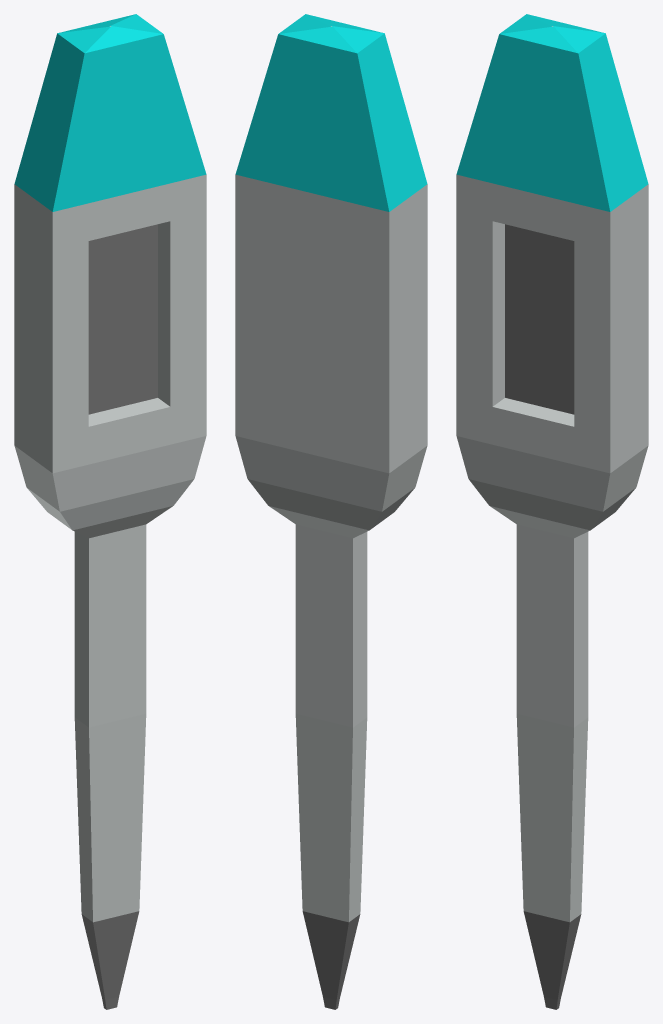
The model's file is Termometer.fbx.
3 renders of one model, left to right at view 1: azimuth 30°, elevation 25°; view 2: azimuth 150°, elevation 25°; view 3: azimuth 330°, elevation 25°, orthographic.
Parts seen in each view (by area): view 1: Cube; view 2: Cube; view 3: Cube.
Part boxes in pixels (x1,y1,x2,y2): Cube: (14, 14, 206, 1009); Cube: (235, 14, 427, 1009); Cube: (456, 14, 648, 1009).
Bounding box in the file's own units: 95.99 × 585 × 41.33.
